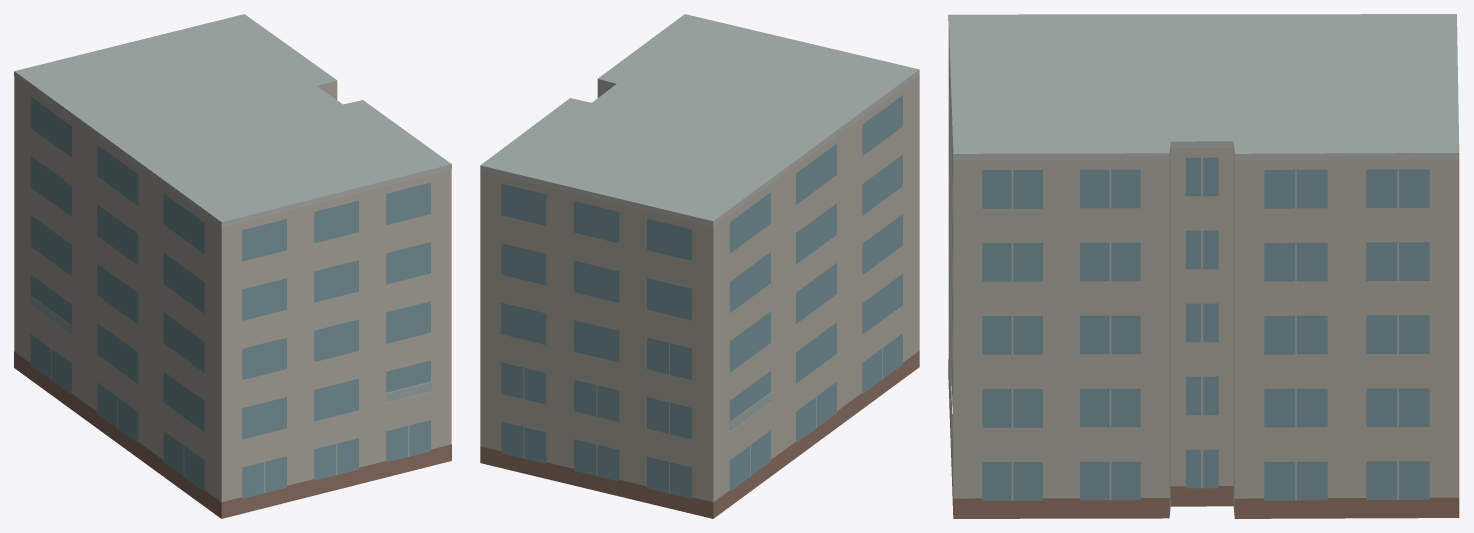
The model's file is survey-upis-32606388.glb.
3 renders of one model, left to right at view 1: azimuth 30°, elevation 25°; view 2: azimuth 150°, elevation 25°; view 3: azimuth 270°, elevation 25°, orthographic. The views are drawn at different scales.
Parts seen in each view (by area): view 1: survey-upis-32606388.tmp; view 2: survey-upis-32606388.tmp; view 3: survey-upis-32606388.tmp.
Boxes of the visible parts, box(x1,y1,x2,y2) form: survey-upis-32606388.tmp: box(14, 14, 451, 518); survey-upis-32606388.tmp: box(480, 14, 919, 518); survey-upis-32606388.tmp: box(948, 14, 1459, 518).
Size of the model in its own units: 11.46 by 13.9 by 17.64.
